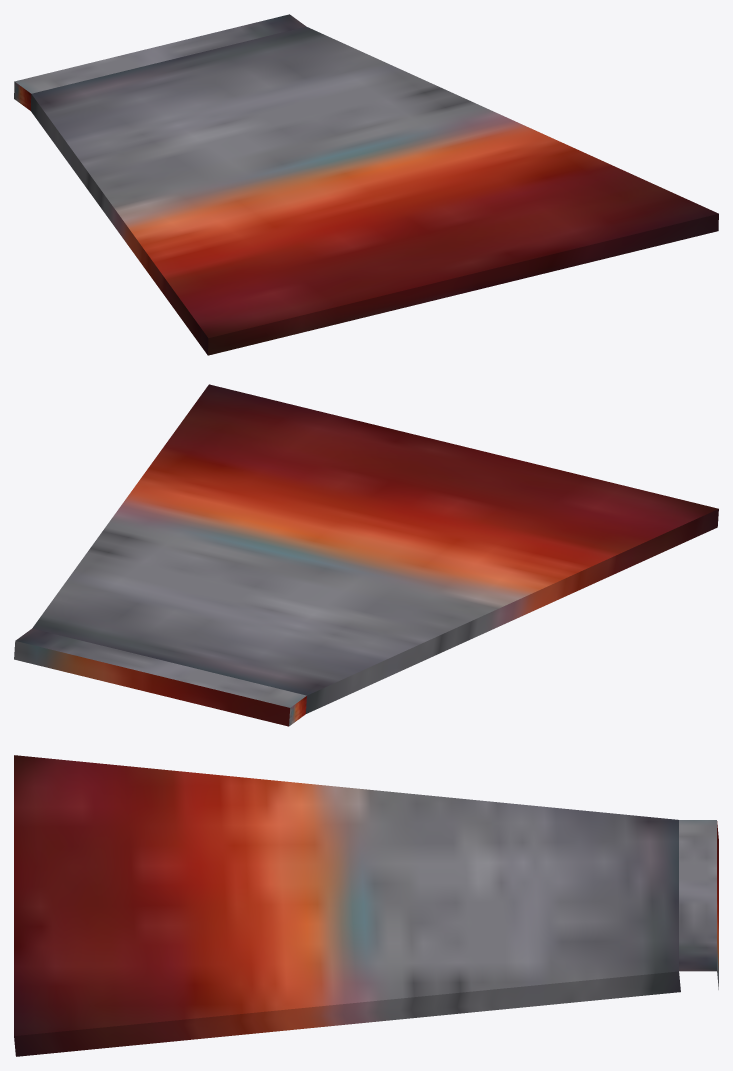
File: UFURMOWANA_STAL.glb
3 views of the same model, one above another, from view 1: azimuth 30°, elevation 25°; view 2: azimuth 150°, elevation 25°; view 3: azimuth 270°, elevation 25° (orthographic). The views are drawn at different scales.
Parts seen in each view (by area): view 1: UFURMOWANA_STAL; view 2: UFURMOWANA_STAL; view 3: UFURMOWANA_STAL.
Boxes of the visible parts, x1=… form: UFURMOWANA_STAL: x1=14, y1=14, x2=718, y2=355; UFURMOWANA_STAL: x1=14, y1=384, x2=718, y2=726; UFURMOWANA_STAL: x1=14, y1=755, x2=718, y2=1056.
Bounding box in the file's own units: 0.2454 × 0.00833 × 0.26.
1 material, 1 textured.
